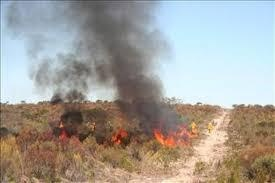fire: (151, 122, 199, 147), (52, 118, 78, 142), (108, 124, 132, 145)
